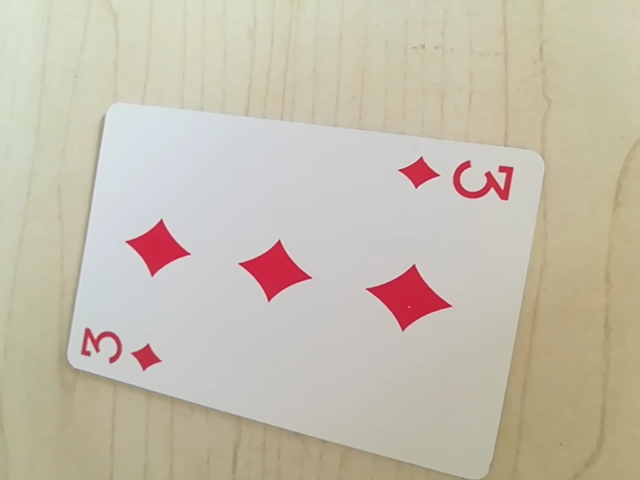fk 3: (396, 152, 518, 205), (76, 318, 171, 377)
